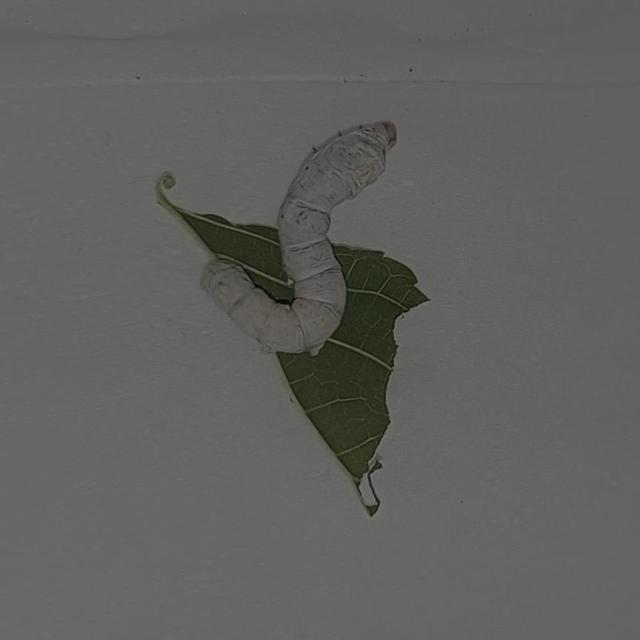Healthy: (189, 107, 402, 363)
